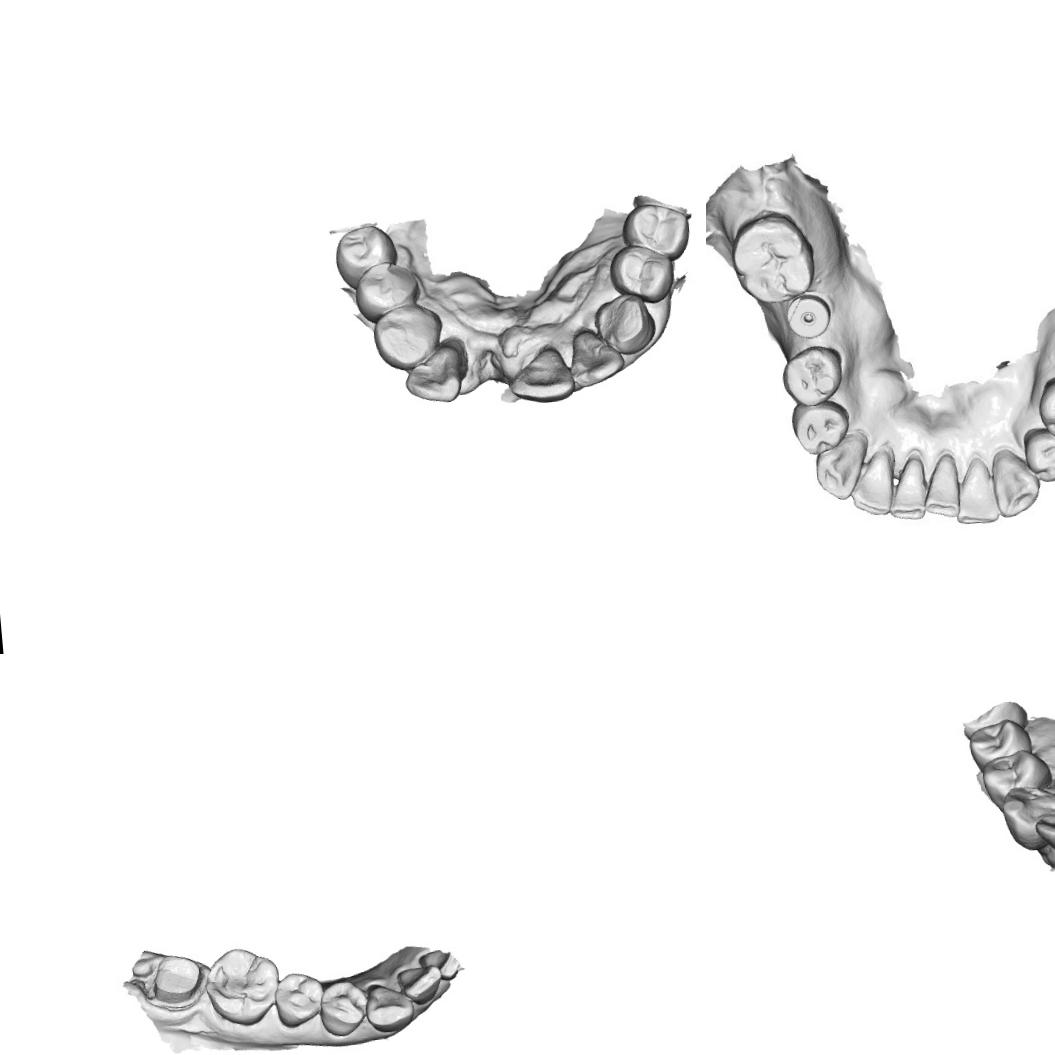canine: (400, 336, 467, 407), (590, 290, 658, 356), (986, 444, 1041, 522), (999, 781, 1055, 853), (813, 433, 866, 506), (363, 978, 416, 1034)
crown: (139, 948, 206, 1013)
implant: (781, 290, 834, 338)
incisor: (505, 343, 577, 407), (564, 322, 626, 388), (956, 458, 1001, 526), (850, 450, 894, 514), (394, 962, 444, 1008), (924, 458, 966, 510), (890, 456, 927, 514), (1032, 807, 1055, 869)
molar: (723, 212, 814, 306), (200, 943, 284, 1028), (332, 221, 400, 291)
premolar: (370, 299, 446, 374), (979, 746, 1055, 812), (618, 198, 691, 266), (352, 258, 423, 326), (606, 240, 676, 308), (780, 342, 843, 408), (966, 715, 1034, 774), (789, 400, 848, 458), (272, 968, 326, 1030), (314, 977, 368, 1039), (1021, 420, 1055, 484), (1031, 374, 1055, 439)
